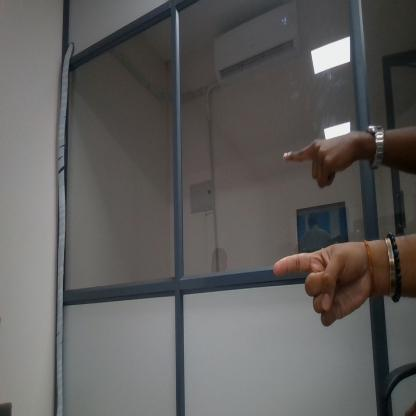Right: (270, 238, 367, 327), (280, 133, 348, 193)
